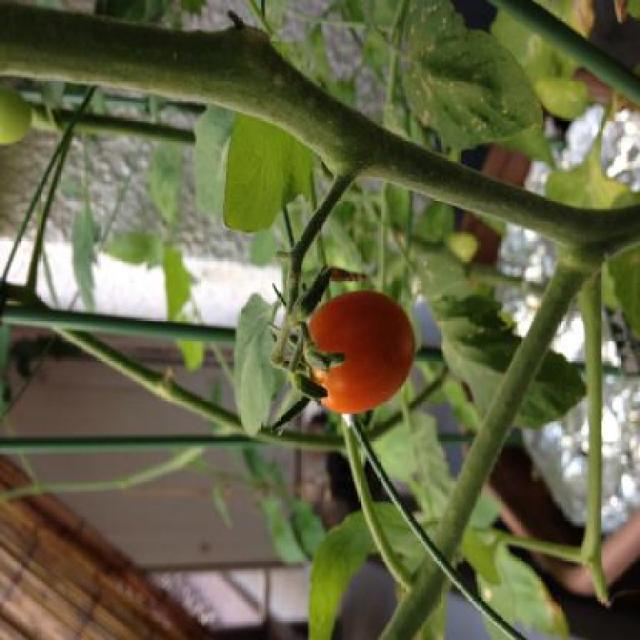Tomato: (296, 277, 430, 414)
